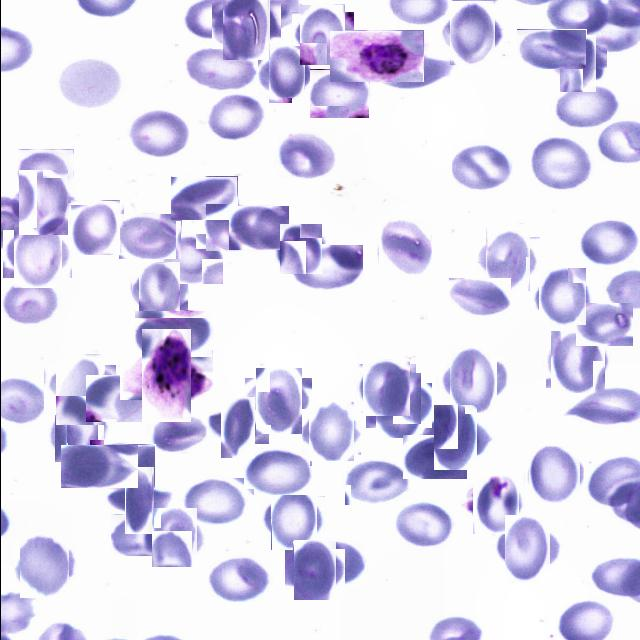red blood cell: (56, 56, 127, 110), (134, 310, 212, 357), (49, 360, 110, 420), (547, 332, 606, 391), (8, 224, 66, 284), (530, 136, 593, 191), (444, 350, 502, 408), (498, 520, 556, 578), (292, 541, 364, 587), (243, 448, 312, 496), (291, 244, 363, 290), (60, 445, 137, 488), (14, 174, 71, 232), (15, 538, 72, 596), (206, 554, 273, 603), (250, 372, 306, 430), (160, 233, 223, 284), (376, 220, 432, 276), (526, 448, 582, 504), (217, 0, 275, 54), (182, 50, 256, 92), (444, 5, 499, 61), (370, 378, 426, 433), (344, 458, 409, 505), (128, 108, 189, 158), (451, 142, 511, 192), (51, 405, 105, 460), (428, 410, 482, 465), (170, 176, 237, 220), (88, 444, 155, 488), (555, 85, 619, 131), (578, 219, 638, 268), (276, 130, 336, 179), (309, 69, 369, 118), (110, 514, 180, 556), (480, 232, 534, 286), (266, 492, 320, 546), (294, 8, 348, 62), (183, 478, 245, 525), (118, 213, 181, 259), (468, 478, 521, 532), (85, 375, 145, 422), (402, 435, 466, 479), (516, 29, 586, 69), (209, 93, 266, 142), (359, 362, 412, 414), (68, 202, 120, 254), (536, 271, 588, 323), (304, 406, 356, 458), (148, 512, 200, 564), (288, 544, 340, 596), (17, 149, 73, 197), (0, 280, 60, 324), (228, 206, 288, 250), (205, 204, 261, 251), (395, 502, 452, 548), (575, 303, 632, 346), (114, 476, 162, 526), (448, 278, 510, 316), (134, 266, 182, 314), (213, 403, 261, 451), (262, 51, 310, 98), (554, 40, 601, 87), (149, 414, 206, 452), (276, 226, 322, 272)
schizont: (130, 339, 201, 412)
trophozoite: (329, 30, 423, 82)
